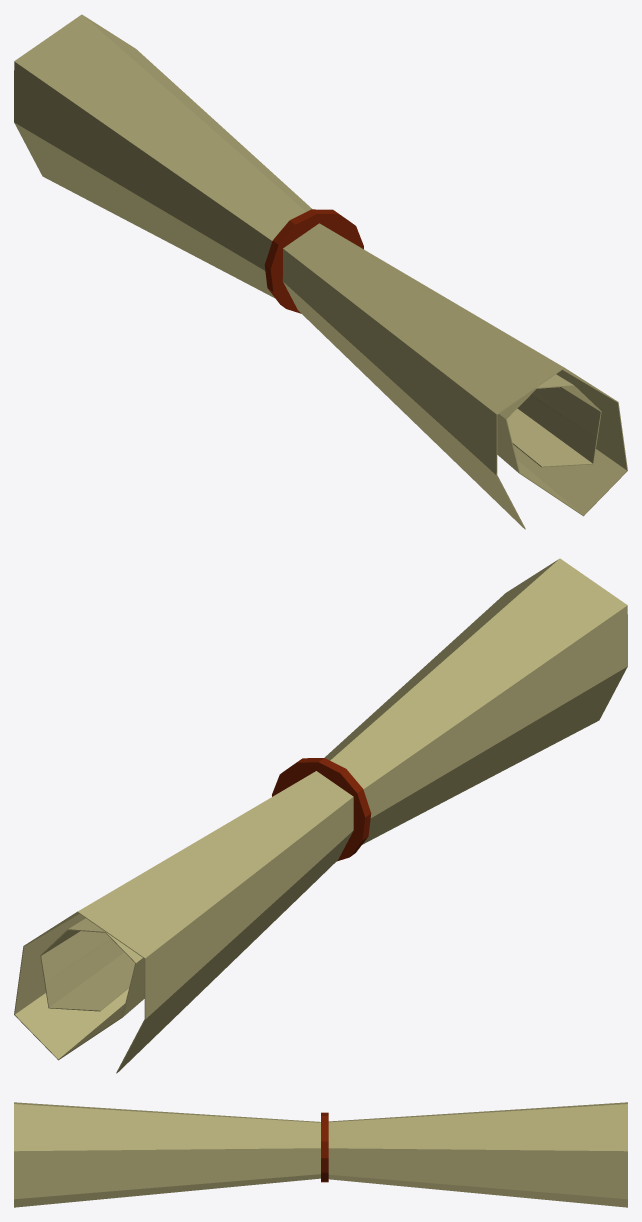
File: scene_IutqSkhJEF.glb
The picture shows the model from 3 angles, top to bottom: view 1: azimuth 30°, elevation 25°; view 2: azimuth 150°, elevation 25°; view 3: azimuth 270°, elevation 25°; orthographic projection. The views are drawn at different scales.
Parts seen in each view (by area): view 1: Parchament_closed_Circle.001; view 2: Parchament_closed_Circle.001; view 3: Parchament_closed_Circle.001.
Part boxes in pixels (bbox=[...]): Parchament_closed_Circle.001: bbox=[14, 14, 627, 529]; Parchament_closed_Circle.001: bbox=[14, 558, 627, 1073]; Parchament_closed_Circle.001: bbox=[14, 1102, 627, 1207].
Size of the model in its own units: 1.99 by 2.22 by 12.65.
